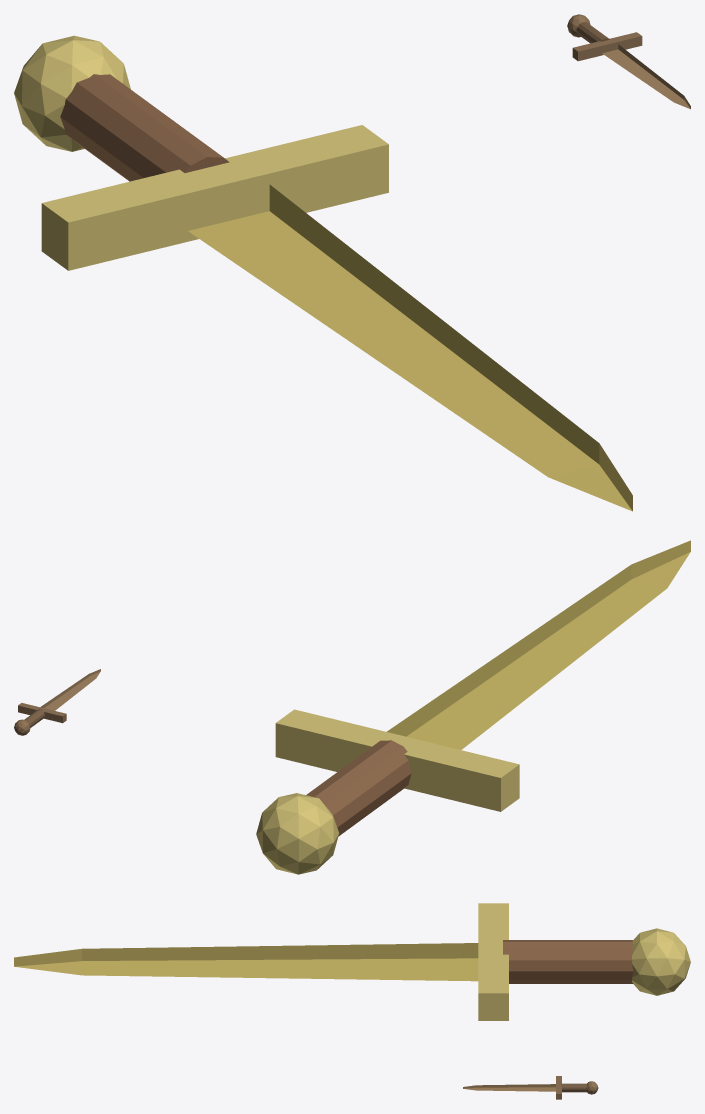
Rendered from giant_golden_broadsword_and_tiny_wooden_blade.glb.
3 renders of one model, top to bottom at view 1: azimuth 30°, elevation 25°; view 2: azimuth 150°, elevation 25°; view 3: azimuth 270°, elevation 25°, orthographic. The views are drawn at different scales.
Parts seen in each view (by area): view 1: sword_0_0, sword_0_1, sword_0_2, sword_0_3, sword_1_0, sword_1_1; view 2: sword_0_0, sword_0_1, sword_0_3, sword_0_2, sword_1_0; view 3: sword_0_0, sword_0_2, sword_0_1, sword_0_3, sword_1_0.
Part boxes in pixels (x1,y1,x2,y2): sword_0_0: (188, 184, 632, 511); sword_0_1: (41, 125, 388, 270); sword_0_2: (60, 74, 229, 181); sword_0_3: (14, 35, 130, 151); sword_1_0: (602, 44, 690, 109); sword_1_1: (572, 32, 642, 61); sword_0_0: (386, 540, 690, 749); sword_0_1: (275, 709, 519, 811); sword_0_3: (256, 793, 339, 874); sword_0_2: (306, 740, 411, 836); sword_1_0: (40, 669, 100, 710); sword_0_0: (14, 943, 478, 981); sword_0_2: (503, 940, 633, 983); sword_0_1: (478, 903, 508, 1020); sword_0_3: (632, 928, 690, 995); sword_1_0: (463, 1084, 555, 1091).
Size of the model in its own units: 5 by 0.8 by 7.96.
